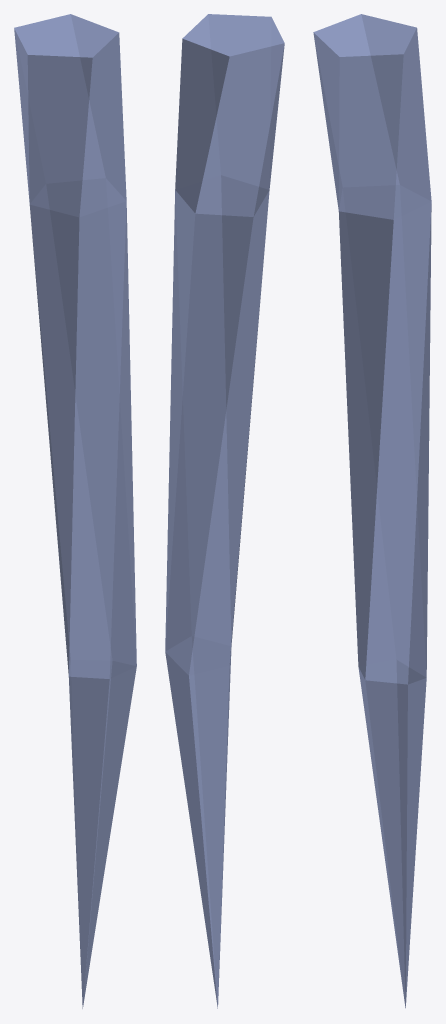
The model's file is Icicle_1.fbx.
3 views of the same model, side by side, from view 1: azimuth 30°, elevation 25°; view 2: azimuth 210°, elevation 25°; view 3: azimuth 330°, elevation 25° (orthographic). The views are drawn at different scales.
Parts seen in each view (by area): view 1: Icicle_mesh; view 2: Icicle_mesh; view 3: Icicle_mesh.
Boxes of the visible parts, x1,y1,x2,y2 form: Icicle_mesh: (14,14,136,1008); Icicle_mesh: (165,14,284,1008); Icicle_mesh: (313,14,431,1008).
Size of the model in its own units: 5.82 by 53.54 by 5.3.
